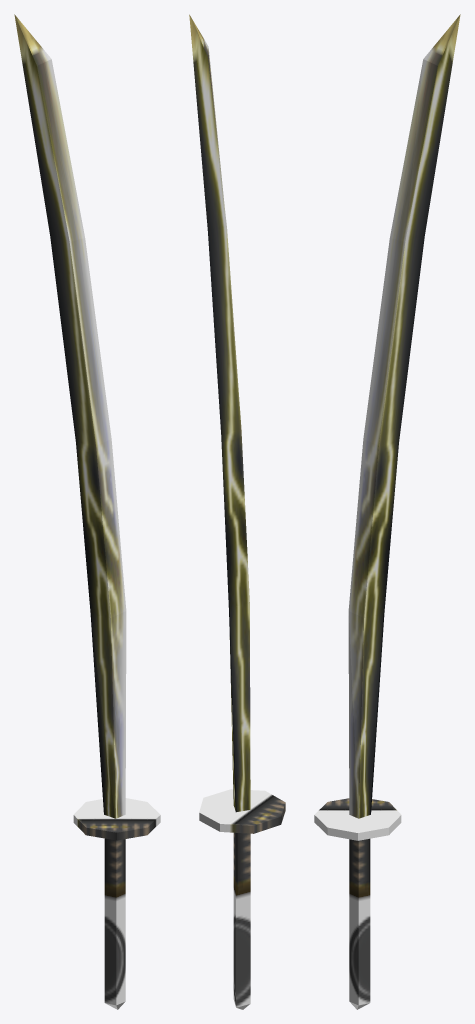
The model's file is heavybladev00_5.obj.
3 renders of one model, left to right at view 1: azimuth 90°, elevation 25°; view 2: azimuth 150°, elevation 25°; view 3: azimuth 270°, elevation 25°, orthographic. The views are drawn at different scales.
Visible parts, largest first — view 1: MDL_cw2hkt00_5; view 2: MDL_cw2hkt00_5; view 3: MDL_cw2hkt00_5.
Part boxes in pixels (x1,y1,x2,y2): MDL_cw2hkt00_5: (14, 14, 160, 1009); MDL_cw2hkt00_5: (189, 14, 285, 1009); MDL_cw2hkt00_5: (314, 14, 460, 1009).
Size of the model in its own units: 0.1388 by 1.77 by 0.235.
